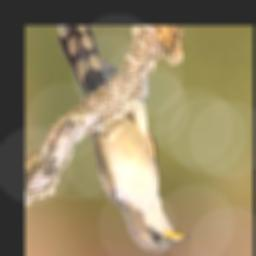Cuckoo: (56, 26, 189, 252)
